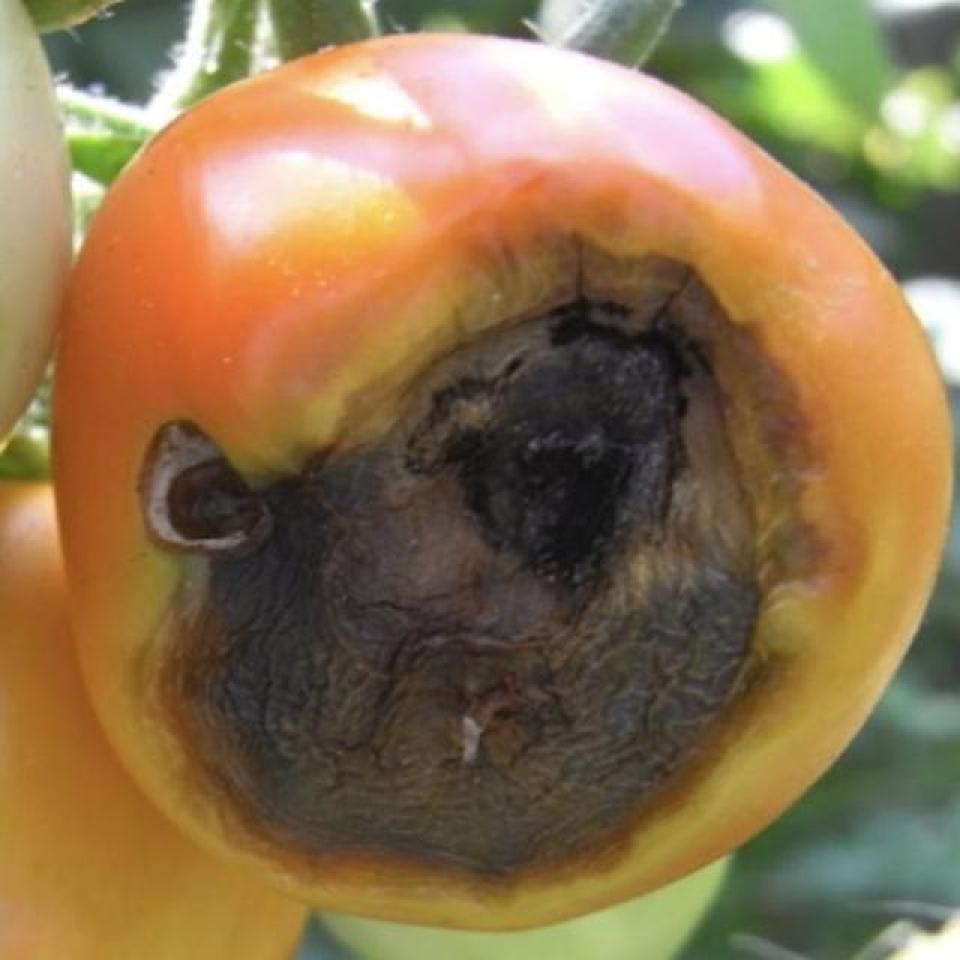Blossom_end_rot: (133, 208, 840, 932)
